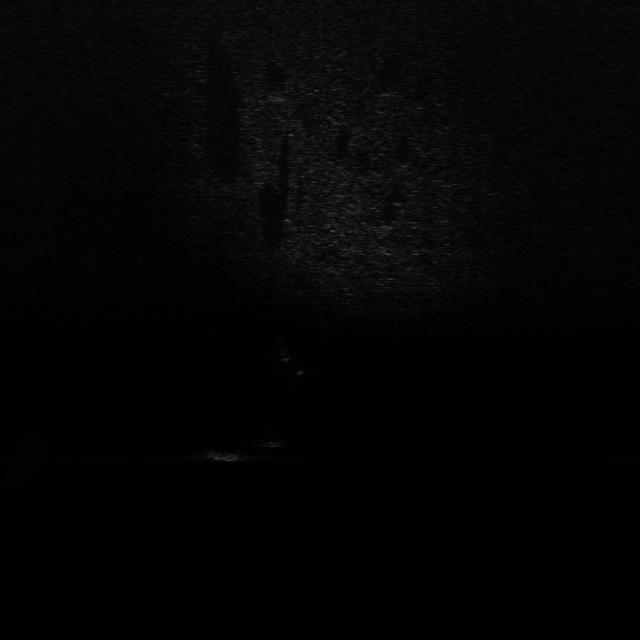ball: (263, 430, 286, 449)
human body: (279, 342, 307, 390)
square cage: (203, 443, 243, 466)
